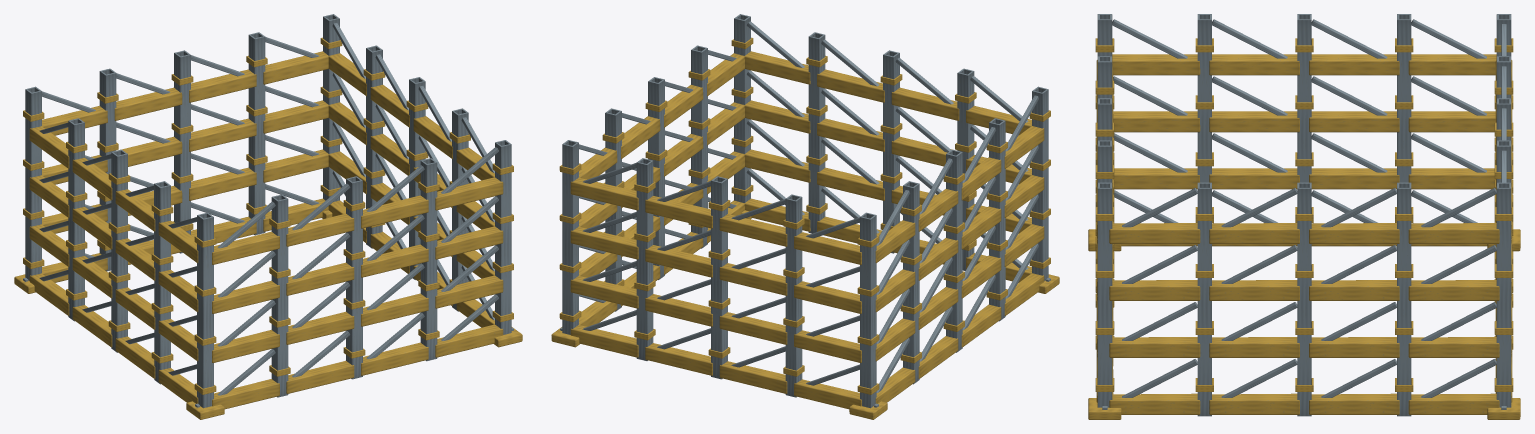
3 renders of one model, left to right at view 1: azimuth 30°, elevation 25°; view 2: azimuth 150°, elevation 25°; view 3: azimuth 270°, elevation 25°, orthographic. The views are drawn at different scales.
Parts seen in each view (by area): view 1: Tier 0 side 0 post 0, Tier 0 side 2 post 1, Tier 0 side 0 post 3, Tier 0 side 0 post 1, Tier 0 side 1 post 0, Tier 0 side 0 post 2, Tier 0 side 3 post 0, Tier 0 side 3 post 2, Tier 0 side 2 post 2, Tier 0 side 3 post 1, Tier 0 side 3 post 3, Tier 0 side 1 post 3 (+60 smaller); view 2: Tier 0 side 3 post 0, Tier 0 side 2 post 1, Tier 0 side 2 post 3, Tier 0 side 2 post 0, Tier 0 side 0 post 3, Tier 0 side 2 post 2, Tier 0 side 0 post 2, Tier 0 side 0 post 0, Tier 0 side 3 post 2, Tier 0 side 3 post 3, Tier 0 side 3 post 1, Tier 0 side 1 post 1 (+57 smaller); view 3: Tier 0 side 1 post 0, Tier 0 side 2 post 0, Tier 0 side 1 post 1, Tier 0 side 1 post 3, Tier 0 side 1 post 2, Tier 0 side 3 post 3, Tier 0 side 3 post 1, Tier 0 side 3 post 2, Tier 0 bay 3-3-1 service deck, Tier 0 bay 3-3-2 service deck, Tier 0 bay 3-2-1 service deck, Tier 0 bay 3-2-2 service deck (+66 smaller).
Boxes of the visible parts, bbox=[...] form: Tier 0 side 0 post 0: bbox=[197, 212, 213, 408]; Tier 0 side 2 post 1: bbox=[248, 32, 265, 235]; Tier 0 side 0 post 3: bbox=[420, 158, 437, 361]; Tier 0 side 0 post 1: bbox=[271, 194, 288, 397]; Tier 0 side 1 post 0: bbox=[495, 140, 511, 334]; Tier 0 side 0 post 2: bbox=[346, 176, 362, 379]; Tier 0 side 3 post 0: bbox=[25, 86, 41, 280]; Tier 0 side 3 post 2: bbox=[111, 149, 127, 352]; Tier 0 side 2 post 2: bbox=[174, 50, 190, 253]; Tier 0 side 3 post 1: bbox=[68, 118, 84, 321]; Tier 0 side 3 post 3: bbox=[154, 181, 170, 384]; Tier 0 side 1 post 3: bbox=[366, 45, 382, 248]; Tier 0 side 3 post 0: bbox=[860, 212, 876, 408]; Tier 0 side 2 post 1: bbox=[636, 158, 653, 360]; Tier 0 side 2 post 3: bbox=[785, 194, 802, 397]; Tier 0 side 2 post 0: bbox=[562, 140, 578, 334]; Tier 0 side 0 post 3: bbox=[808, 32, 825, 233]; Tier 0 side 2 post 2: bbox=[711, 176, 727, 379]; Tier 0 side 0 post 2: bbox=[883, 50, 899, 253]; Tier 0 side 0 post 0: bbox=[1032, 86, 1048, 280]; Tier 0 side 3 post 2: bbox=[946, 149, 962, 352]; Tier 0 side 3 post 3: bbox=[989, 118, 1005, 321]; Tier 0 side 3 post 1: bbox=[903, 181, 919, 384]; Tier 0 side 1 post 1: bbox=[691, 45, 707, 248]; Tier 0 side 1 post 0: bbox=[1097, 182, 1112, 407]; Tier 0 side 2 post 0: bbox=[1496, 182, 1511, 407]; Tier 0 side 1 post 1: bbox=[1197, 182, 1211, 416]; Tier 0 side 1 post 3: bbox=[1397, 182, 1411, 416]; Tier 0 side 1 post 2: bbox=[1297, 182, 1311, 416]; Tier 0 side 3 post 3: bbox=[1197, 14, 1211, 182]; Tier 0 side 3 post 1: bbox=[1397, 14, 1411, 182]; Tier 0 side 3 post 2: bbox=[1297, 14, 1311, 182]; Tier 0 bay 3-3-1 service deck: bbox=[1309, 54, 1399, 75]; Tier 0 bay 3-3-2 service deck: bbox=[1209, 54, 1299, 75]; Tier 0 bay 3-2-1 service deck: bbox=[1309, 111, 1399, 132]; Tier 0 bay 3-2-2 service deck: bbox=[1209, 111, 1299, 132].
Size of the model in its own units: 1.95 by 1.13 by 1.95.
2 materials, 2 textured.
